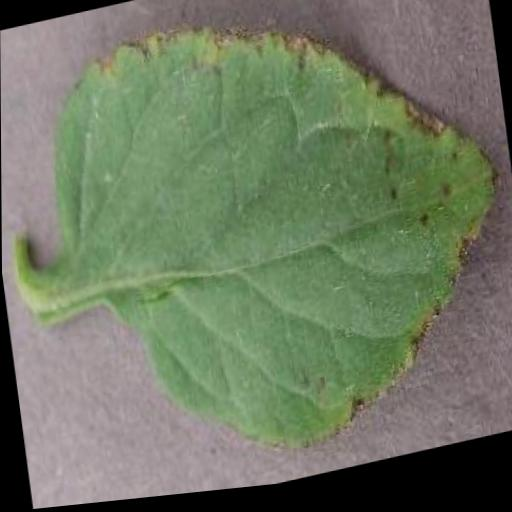Bacterial Spot: (29, 0, 512, 497)
